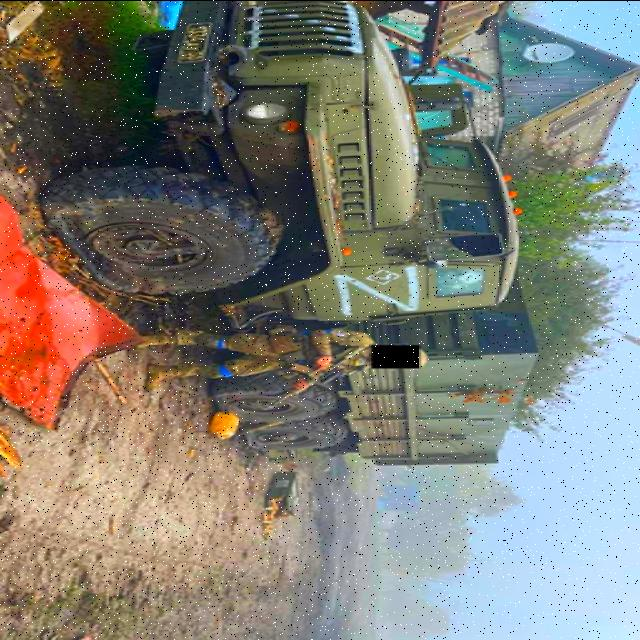TRUCK: (36, 0, 554, 470)
